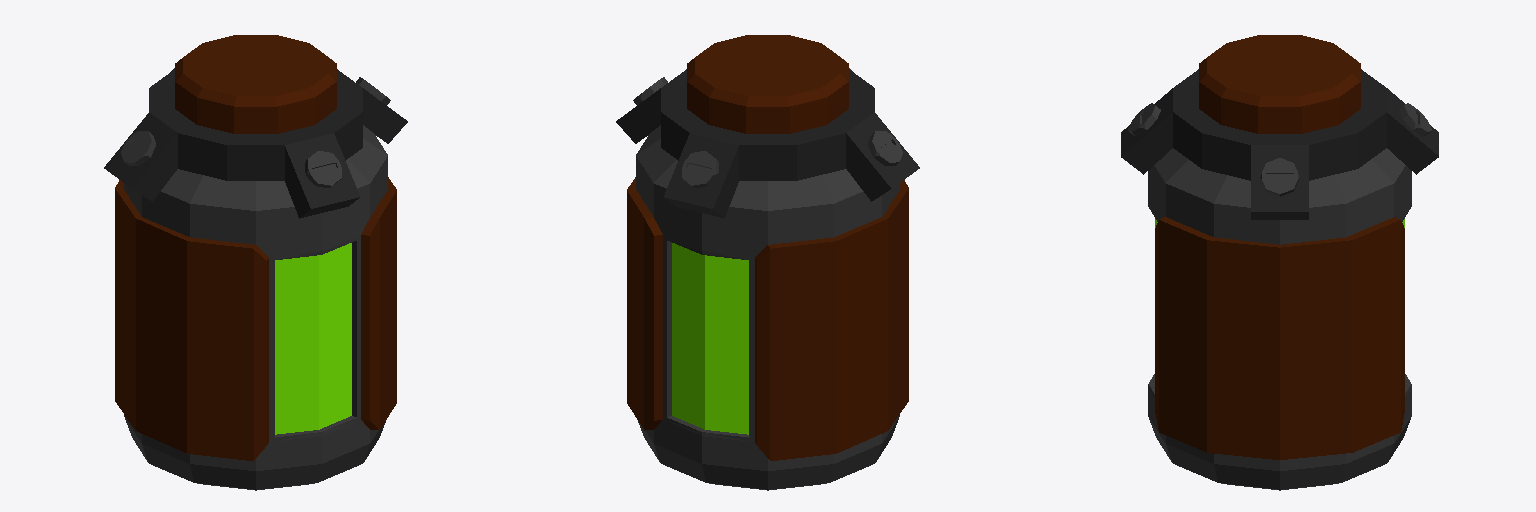
The model's file is Pickup_Tank.obj.
The picture shows the model from 3 angles: view 1: azimuth 30°, elevation 25°; view 2: azimuth 150°, elevation 25°; view 3: azimuth 270°, elevation 25°; orthographic projection.
Parts seen in each view (by area): view 1: Pickup_Tank_Cylinder.010; view 2: Pickup_Tank_Cylinder.010; view 3: Pickup_Tank_Cylinder.010.
Boxes of the visible parts, x1,y1,x2,y2 form: Pickup_Tank_Cylinder.010: [104, 35, 407, 490]; Pickup_Tank_Cylinder.010: [616, 35, 919, 490]; Pickup_Tank_Cylinder.010: [1121, 35, 1438, 490].
Size of the model in its own units: 0.2007 by 0.2647 by 0.2007.